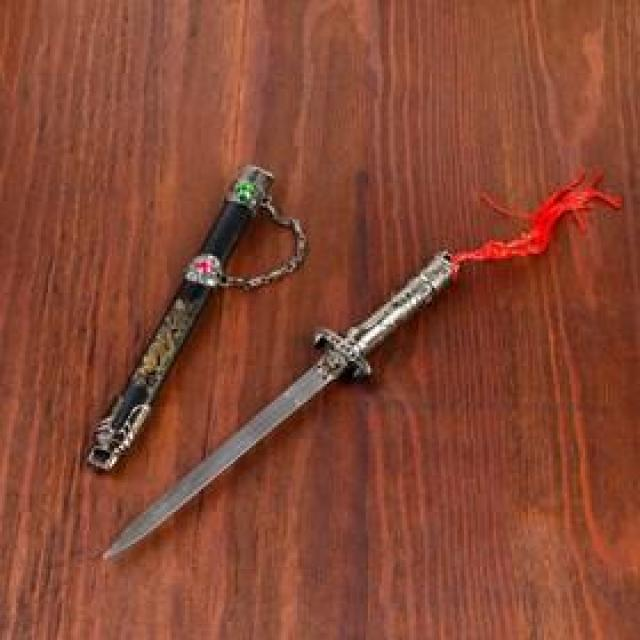Knife: (98, 247, 463, 562)
